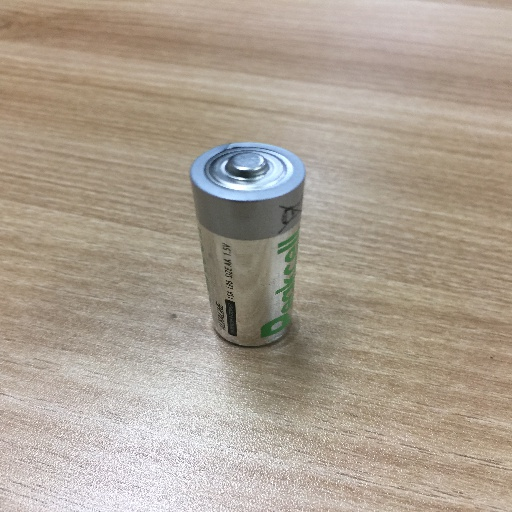Battery_0: (182, 130, 321, 361)
